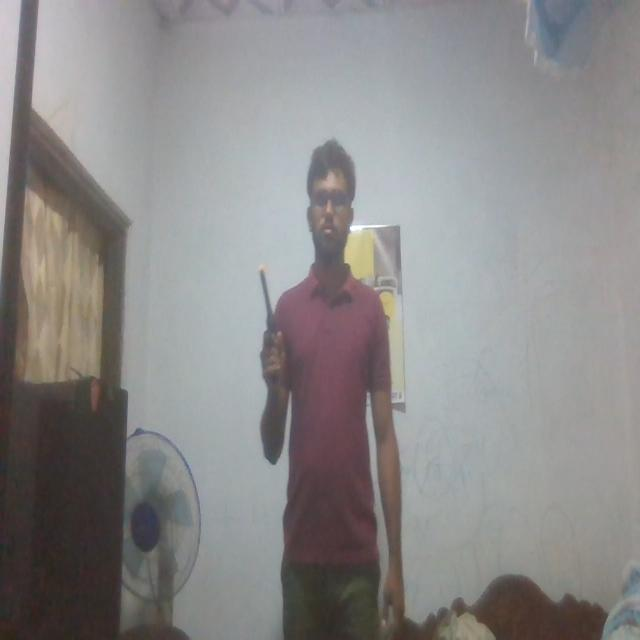Gun_Holder: (258, 262, 288, 372)
Person: (257, 117, 409, 640)
